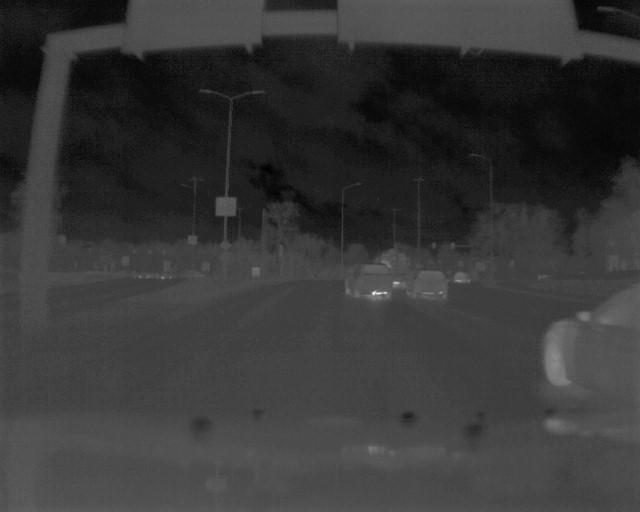car: (538, 276, 640, 401), (343, 261, 396, 300), (405, 270, 448, 305)
